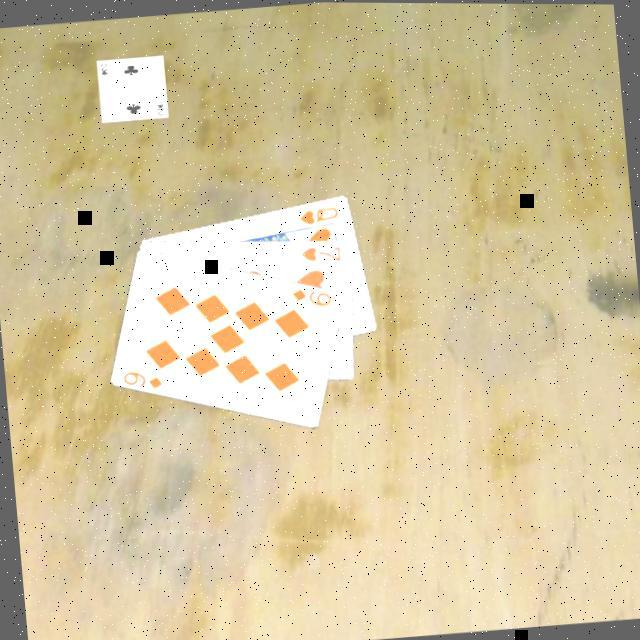7H: (295, 238, 342, 264)
9D: (117, 363, 164, 393), (286, 280, 332, 310)
QH: (292, 200, 340, 226)
